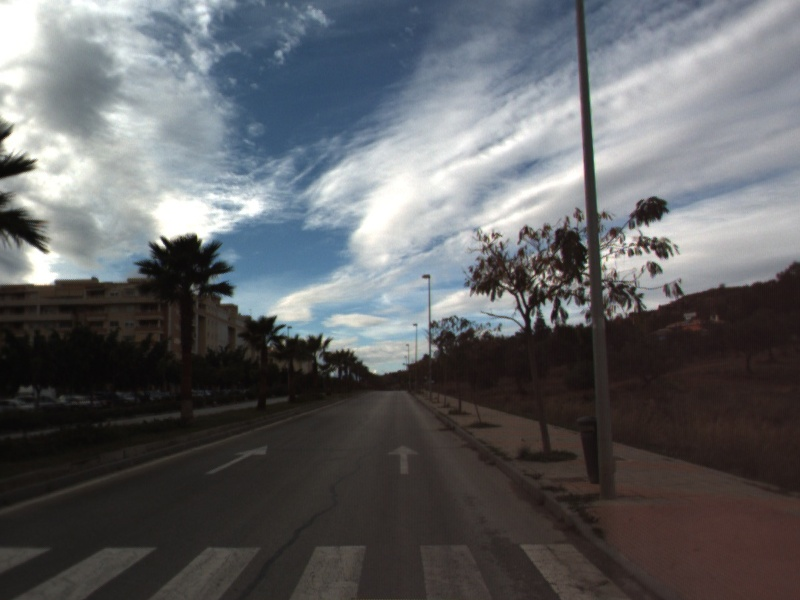STRAIGHT: (203, 443, 270, 476), (386, 442, 421, 476)
